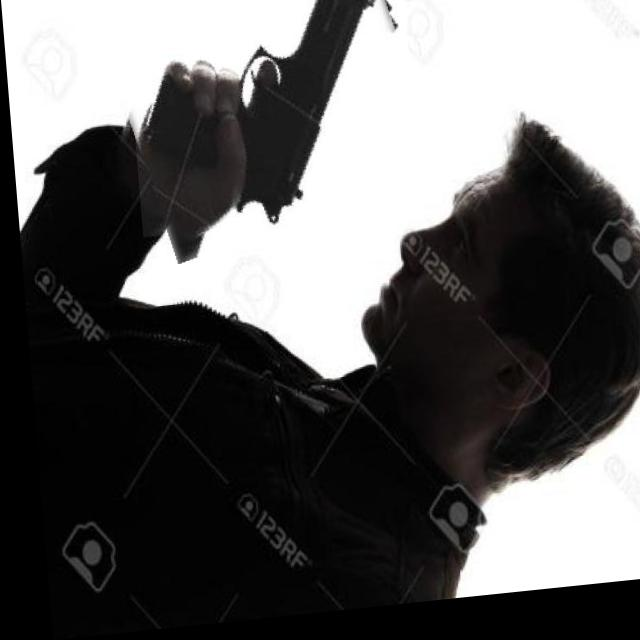handgun: (218, 0, 403, 247)
